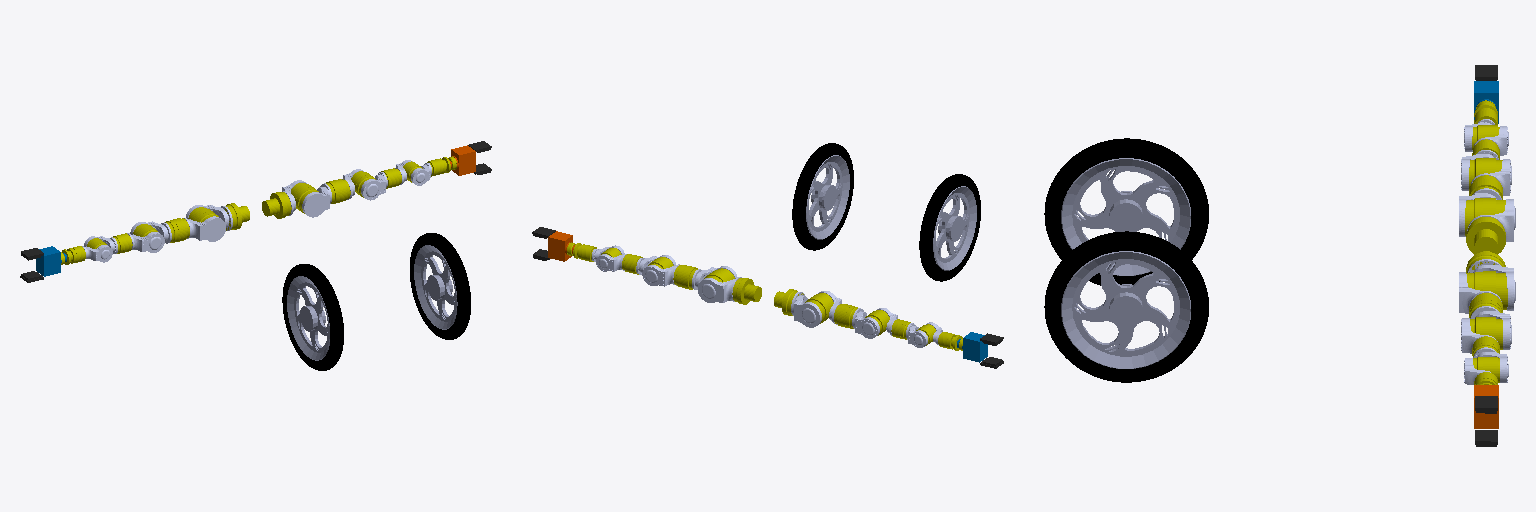
robot.urdf — Krang:
<?xml version="1.0" ?>
<!-- @file Krang.urdf -->
<!-- @author [author] -->
<!-- @date May 10, 2013 -->
<!-- @brief This file contains the .urdf definition for Krang. -->
<!-- NOTE: The center of mass locations are taken from the MassTable by summing up the -->
<!-- individual part values for the sections (which correspond to nodes here). -->
<!-- TODO: Set the center of mass locations -->
<!-- TODO: Set the correct masses. Note that the dae models have the brackets divided in two and -->
<!-- connected to the middle motor for which we do not have measurements. -->
<!-- NOTE: The bounding box values are taken by finding the min and max values of the dae files. -->

<robot name="Krang">

	<!-- Links -->

	<link name = "LWheel">
    <inertial>
      <mass value="4.66"/>
      <inertia ixx="0.102019" ixy="2.45462e-05" ixz="0.00713022" iyy="0.0832724" iyz="-0.00131733" izz="0.086493"/>
      <origin xyz="0 0 0"/>
    </inertial>
		<visual> <geometry> <mesh filename="../scenes/Base/newwheel_super_res.dae" /> </geometry> </visual>
		<collision> <geometry> <mesh filename="../scenes/Base/newwheel_super_res.dae" /> </geometry> </collision>
	<soft_shape>
            <total_mass>4.66</total_mass>
            <geometry>
                <mesh filename="../scenes/Base/newwheel_super_res.dae" />
            </geometry>
			<kv>500.0</kv>
			<ke>0.0</ke>
			<damp>5.0</damp>
     </soft_shape>
	</link>

	<link name = "RWheel">
    <inertial>
      <mass value="4.66"/>
      <inertia ixx="0.102019" ixy="2.45462e-05" ixz="0.00713022" iyy="0.0832724" iyz="-0.00131733" izz="0.086493"/>
      <origin xyz="0 0 0"/>
    </inertial>
		<visual> <geometry> <mesh filename="../scenes/Base/newwheel_super_res.dae" /> </geometry> </visual>
		<collision> <geometry> <mesh filename="../scenes/Base/newwheel_super_res.dae" /> </geometry> </collision>
	<soft_shape>
            <total_mass>4.66</total_mass>
            <geometry>
                <mesh filename="../scenes/Base/newwheel_super_res.dae" />
            </geometry>
			<kv>500.0</kv>
			<ke>0.0</ke>
			<damp>5.0</damp>
    </soft_shape>
	</link>

<!-- Finalized Inertial Parameters for Krang Base, Spine and Bracket -->

	<link name = "Base">
    <inertial>
      <mass value="75.767"/>
      <inertia ixx="2.9427" ixy="0.0001" ixz="0.0037" iyy="2.4034" iyz="-0.0113" izz="1.2335"/>
      <origin xyz="-0.000628 0.001940 0.076721"/>
      <!-- <origin xyz="-0.1 0.1 0.1"/> -->
    </inertial>
		<visual> <geometry> <mesh filename="../scenes/base.dae" /> </geometry> </visual>
		<collision> <origin xyz="0.00225 0.2097395 0.006300"/> <geometry> <box size="0.7165 0.71048 0.32860"/> </geometry> </collision>
	</link>

	<link name = "Spine">
    <inertial>
      <mass value="14.006"/>
      <inertia ixx="0.5601" ixy="0.0003" ixz="0.1548" iyy="0.53" iyz="-0.006" izz="0.2328"/>
      <origin xyz="-0.051222 0.000345 0.080526"/>
      <!-- <origin xyz="-0.1 0.1 0.1"/> -->
    </inertial>
		<visual> <geometry> <mesh filename="../scenes/spine.dae" /> </geometry> </visual>
		<collision> <origin xyz="-0.026 0.230150 0.053887"/> <geometry> <box size="0.2340 0.59430 0.24097"/> </geometry> </collision>
	</link>

	<link name = "Bracket">
    <inertial>
      <mass value="6.533"/>
      <inertia ixx="0.1003" ixy="0" ixz="0" iyy="0.0214" iyz="0" izz="0.0987"/>
      <origin xyz="0.0 0.076445 -0.005972"/>
      <!-- <origin xyz="-0.1 0.1 0.1"/> -->
    </inertial>
		<visual> <geometry> <mesh filename="../scenes/bracket.dae" /> </geometry> </visual>
		<collision> <origin xyz="0.0012875 0.0582 -0.0280530"/> <geometry> <box size="0.2815 0.23 0.22611"/> </geometry> </collision>
	</link>

	<link name = "Kinect">
    <inertial>
      <mass value="0.705"/>
      <inertia ixx="0.102019" ixy="2.45462e-05" ixz="0.00713022" iyy="0.0832724" iyz="-0.00131733" izz="0.086493"/>
      <origin xyz="0.0 -0.04 -0.028"/>
    </inertial>
		<visual> <geometry> <mesh filename="../scenes/Kinect/Kinect.dae" /> </geometry> </visual>
		<collision> <origin xyz="0.0 -0.0251 -0.0185"/> <geometry> <box size="0.28 0.07 0.063"/> </geometry> </collision>
	</link>

	<link name = "L1">
	    <inertial>
	      <mass value="7.35"/>
	      <inertia ixx="0.0381" ixy="0.0104" ixz="0" iyy="0.0187" iyz="0" izz="0.0430"/>
	      <origin xyz="0.0217 -0.0691 0"/>
	    </inertial>
	<visual>
		<geometry>
			<mesh filename="../scenes/Schunk/L1.dae" />
		</geometry>
	</visual>
	<collision>
		<origin xyz="0.015 -0.080866 0.0"/>
		<geometry>
			<box size="0.16 0.29367 0.13188"/>
		</geometry>
	</collision>
	</link>

	<link name = "L2">
    <inertial>
      <mass value="6.1405"/>
      <!-- <inertia ixx="0.0504" ixy="0.0006" ixz="0" iyy="0.0178" iyz="0" izz="0.0579"/> -->
	  <inertia ixx="0.0320" ixy="0.0097" ixz="0" iyy="0.0134" iyz="0" izz="0.0350"/>
      <origin xyz="0.0269 -0.0548 0"/>
    </inertial>
		<visual> <geometry> <mesh filename="../scenes/Schunk/L2.dae" /> </geometry> </visual>
		<collision> <origin xyz="0.017042 -0.058309 0.0"/> <geometry> <box size="0.14591 0.24658 0.13"/> </geometry> </collision>
	</link>

	<link name = "L3">
    <inertial>
      <mass value="4.531"/>
      <!-- <inertia ixx="0.0354" ixy="-0.0003" ixz="0" iyy="0.01" iyz="0" izz="0.0394"/> -->
      <inertia ixx="0.0180" ixy="0.005" ixz="0" iyy="0.0084" iyz="0" izz="0.0204"/>
	  <origin xyz="0.0188 -0.00619 0"/>
    </inertial>
		<visual> <geometry> <mesh filename="../scenes/Schunk/L3.dae" /> </geometry> </visual>
		<collision> <origin xyz="0.014000 -0.075113 0.0"/> <geometry> <box size="0.13800 0.26217 0.11189"/> </geometry> </collision>
	</link>

	<link name = "L4">
    <inertial>
      <mass value="3.2245"/>
      <!-- <inertia ixx="0.0209" ixy="0.0003" ixz="0" iyy="0.0067" iyz="0" izz="0.0239"/> -->
    <inertia ixx="0.0133" ixy="0.004" ixz="0" iyy="0.0049" iyz="0" izz="0.0145"/>
	<origin xyz="0.0238 -0.0484 0"/>
    </inertial>
		<visual> <geometry> <mesh filename="../scenes/Schunk/L4.dae" /> </geometry> </visual>
		<collision> <origin xyz="0.018200 -0.052050 0.0"/> <geometry> <box size="0.12960 0.2141 0.11"/> </geometry> </collision>
	</link>

	<link name = "L5">
    <inertial>
      <mass value="2.318"/>
      <!-- <inertia ixx="0.012" ixy="-0.0002" ixz="0" iyy="0.0035" iyz="0" izz="0.0135"/> -->
      <inertia ixx="0.0063" ixy="0.0017" ixz="0" iyy="0.0029" iyz="0" izz="0.0072"/>
	  <origin xyz="0.0166 -0.0494 0"/>
    </inertial>
		<visual>
			<geometry>
				<mesh filename="../scenes/Schunk/L5.dae" />
			</geometry>
		</visual>
		<collision> <origin xyz="0.0145115 -0.0571105 0.0000425" rpy="-1.57 0 0"/> <geometry> <box size="0.117977 0.204179 0.089915"/> </geometry> </collision>
	</link>

	<link name = "L6">
    <inertial>
      <mass value="2.318"/>
      <!-- <inertia ixx="0.0104" ixy="0" ixz="0" iyy="0.0041" iyz="0" izz="0.0125"/> -->
      <inertia ixx="0.0071" ixy="0.0020" ixz="0" iyy="0.0029" iyz="0" izz="0.008"/>
	  <origin xyz="0.0232 -0.0377 0"/>
    </inertial>
		<visual> <geometry> <mesh filename="../scenes/Schunk/L6.dae" /> </geometry> </visual>
		<collision> <origin xyz="0.0175015 -0.0481615 0.0"/> <geometry> <box size="0.111977 0.185277 0.089"/> </geometry> </collision>
	</link>

	<link name = "lGripper">
	    <inertial>
		<mass value="2.3838"/>
		<inertia ixx="0.0104" ixy="0" ixz="0" iyy="0.0108" iyz="0" izz="0.0027"/>
		<!-- <inertia ixx="0.0126" ixy="0" ixz="0" iyy="0.013" iyz="0" izz="0.0027"/> -->
				<!-- An addition of 4.05 cms from the end of Schunk gripper to space between two halves of ft -->
	      <origin xyz="0 0 0.1055"/>
	    </inertial>
		<visual>
			<geometry>
				<mesh filename="../scenes/Schunk/L7.dae" />
			</geometry>
			<!-- <origin rpy="0 0 1.0"/>  -->
		</visual>
		<collision>
			<origin xyz="0.0 -0.0 -0.02615" rpy="0.0 0.0 1.5708"/>
			<geometry>
				<box size="0.08 0.112 0.2025"/>
			</geometry>
		</collision>
	</link>

	<link name = "lgPlate1">
    <inertial>
      <inertia ixx="0.102019" ixy="2.45462e-05" ixz="0.00713022" iyy="0.0832724" iyz="-0.00131733" izz="0.086493"/>
			<mass value="0.0001"/> </inertial>
		<visual> <geometry> <mesh filename="../scenes/Schunk/gripperPlate.dae" /> </geometry> </visual>
		<collision> <geometry> <mesh filename="../scenes/Schunk/gripperPlate.dae" /> </geometry> </collision>
	</link>

	<link name = "lgPlate2">
    <inertial>
      <inertia ixx="0.102019" ixy="2.45462e-05" ixz="0.00713022" iyy="0.0832724" iyz="-0.00131733" izz="0.086493"/>
			<mass value="0.0001"/> </inertial>
		<visual> <geometry> <mesh filename="../scenes/Schunk/gripperPlate.dae" /> </geometry> </visual>
		<collision> <geometry> <mesh filename="../scenes/Schunk/gripperPlate.dae" /> </geometry> </collision>
	</link>

	<link name = "R1">
    <inertial>
	<mass value="7.35"/>
	<inertia ixx="0.0381" ixy="0.0104" ixz="0" iyy="0.0187" iyz="0" izz="0.0430"/>
	<origin xyz="0.0217 -0.0691 0"/>
    </inertial>
		<visual> <geometry> <mesh filename="../scenes/Schunk/L1.dae" /> </geometry> </visual>
		<collision> <origin xyz="0.015 -0.080866 0.0"/> <geometry> <box size="0.16 0.29367 0.13188"/> </geometry> </collision>
	</link>

	<link name = "R2">
    <inertial>
      	<mass value="6.1405"/>
      	<inertia ixx="0.0320" ixy="0.0097" ixz="0" iyy="0.0134" iyz="0" izz="0.0350"/>
	<origin xyz="0.0269 -0.0548 0"/>
    </inertial>
		<visual> <geometry> <mesh filename="../scenes/Schunk/L2.dae" /> </geometry> </visual>
		<collision> <origin xyz="0.017042 -0.058309 0.0"/> <geometry> <box size="0.14591 0.24658 0.13"/> </geometry> </collision>
	</link>

	<link name = "R3">
    <inertial>
      	<mass value="4.531"/>
      	<inertia ixx="0.0180" ixy="0.005" ixz="0" iyy="0.0084" iyz="0" izz="0.0204"/>
	<origin xyz="0.0188 -0.00619 0"/>
    </inertial>
		<visual> <geometry> <mesh filename="../scenes/Schunk/L3.dae" /> </geometry> </visual>
		<collision> <origin xyz="0.014000 -0.075113 0.0"/> <geometry> <box size="0.13800 0.26217 0.11189"/> </geometry> </collision>
	</link>

	<link name = "R4">
    <inertial>
      	<mass value="3.2245"/>
      	<inertia ixx="0.0133" ixy="0.004" ixz="0" iyy="0.0049" iyz="0" izz="0.0145"/>
	<origin xyz="0.0238 -0.0484 0"/>
    </inertial>
		<visual> <geometry> <mesh filename="../scenes/Schunk/L4.dae" /> </geometry> </visual>
		<collision> <origin xyz="0.018200 -0.052050 0.0"/> <geometry> <box size="0.12960 0.2141 0.11"/> </geometry> </collision>
	</link>

	<link name = "R5">
    <inertial>
      	<mass value="2.318"/>
      	<inertia ixx="0.0063" ixy="0.0017" ixz="0" iyy="0.0029" iyz="0" izz="0.0072"/>
	<origin xyz="0.0166 -0.0494 0"/>
    </inertial>
		<visual> <geometry> <mesh filename="../scenes/Schunk/L5.dae" /> </geometry> </visual>
		<collision> <origin xyz="0.0145115 -0.0571105 0.0000425"/> <geometry> <box size="0.117977 0.204179 0.089915"/> </geometry> </collision>
	</link>

	<link name = "R6">
    <inertial>
      	<mass value="2.318"/>
      	<inertia ixx="0.0071" ixy="0.0020" ixz="0" iyy="0.0029" iyz="0" izz="0.008"/>
	<origin xyz="0.0232 -0.0377 0"/>
    </inertial>
		<visual> <geometry> <mesh filename="../scenes/Schunk/L6.dae" /> </geometry> </visual>
		<collision> <origin xyz="0.0175015 -0.0481615 0.0"/> <geometry> <box size="0.111977 0.185277 0.089"/> </geometry> </collision>
	</link>

	<link name = "rGripper">
    <inertial>
     	<mass value="2.3838"/>
		<inertia ixx="0.0104" ixy="0" ixz="0" iyy="0.0108" iyz="0" izz="0.0027"/>
			<!-- An addition of 4.05 cms from the end of Schunk gripper to space between two halves of ft -->
      <origin xyz="0 0 0.1055"/>
    </inertial>
		<visual> <geometry> <mesh filename="../scenes/Schunk/L7.dae" /> </geometry> </visual>
		<collision> <origin xyz="0.0 -0.0 0.02615" rpy="0.0 0.0 1.5708"/> <geometry> <box size="0.08 0.112 0.2025"/> </geometry> </collision>
	</link>

	<link name = "rgPlate1">
    <inertial>
      <inertia ixx="0.102019" ixy="2.45462e-05" ixz="0.00713022" iyy="0.0832724" iyz="-0.00131733" izz="0.086493"/>
			<mass value="0.0001"/> </inertial>
		<visual> <geometry> <mesh filename="../scenes/Schunk/gripperPlate.dae" /> </geometry> </visual>
		<collision> <geometry> <mesh filename="../scenes/Schunk/gripperPlate.dae" /> </geometry> </collision>
	</link>

	<link name = "rgPlate2">
    <inertial>
      <inertia ixx="0.102019" ixy="2.45462e-05" ixz="0.00713022" iyy="0.0832724" iyz="-0.00131733" izz="0.086493"/>
			<mass value="0.0001"/> </inertial>
		<visual> <geometry> <mesh filename="../scenes/Schunk/gripperPlate.dae" /> </geometry> </visual>
		<collision> <geometry> <mesh filename="../scenes/Schunk/gripperPlate.dae" /> </geometry> </collision>
	</link>


	<!-- ======================================================================================================== -->
	<!-- ============================================ Joints ==================================================== -->
	<!-- ======================================================================================================== -->

	<joint name="JLWheel" type="revolute"> <parent link="Base" /> <child link="LWheel" />
		<origin xyz = "-0.354 0.0 0" rpy="0 0 0" />
		<axis xyz="-1 0 0" /> <limit effort="1000" lower="-3.1416" upper="3.1416" velocity="0.1" />
	</joint>

	<joint name="JRWheel" type="revolute"> <parent link="Base" /> <child link="RWheel" />
		<origin xyz = "0.361 0.0 0" rpy="0 0 0" />
		<axis xyz="-1 0 0" /> <limit effort="1000" lower="-3.1416" upper="3.1416" velocity="0.1" />
	</joint>

	<joint name="JWaist" type="revolute"> <parent link="Base" /> <child link="Spine" />
		<origin xyz = "0.026 0.499 -0.091" rpy="0 0 0" />
		<axis xyz="-1 0 0" /> <limit effort="1000" lower="0" upper="2.7" velocity="0.1" />
	</joint>

	<joint name="JTorso" type="revolute"> <parent link="Spine" /> <child link="Bracket" />
		<origin xyz = "-0.0285 0.584 0.1088" rpy="0 3.1416 0" />
		<axis xyz="0 -1 0" /> <limit effort="1000" lower="-0.8" upper="0.8" velocity="0.1" />
	</joint>

	<joint name="JKinect" type="revolute"> <parent link="Bracket" /> <child link="Kinect" />
		<origin xyz = "-0.001 0.1805 -0.1120" rpy="3.1416 0 0" />
		<axis xyz="1 0 0" /> <limit effort="1000" lower="-3.1416" upper="3.1416" velocity="0.1" />
	</joint>

	<!-- =================== Left Arm =================== -->
	<!-- ================================================ -->

	<joint name="LJ1" type="revolute"> <parent link="Bracket" /> <child link="L1" />
		<origin xyz = "0.2823 0.0845 0" rpy="0 3.1416 -1.5708" />
		<axis xyz="0 -1 0" /> <limit effort="1000" lower="-3.1416" upper="3.1416" velocity="0.1" />
	</joint>

	<joint name="LJ2" type="revolute"> <parent link="L1" /> <child link="L2" />
		<origin xyz="0 0.0 0" rpy="3.14 3.14 0" />
		<axis xyz="-1 0 0" /> <limit effort="1000" lower="-2.094" upper="2.094" velocity="0.1" />
	</joint>

	<joint name="LJ3" type="revolute"> <parent link="L2" /> <child link="L3" />
		<origin xyz="0 -0.328 0" rpy="-3.1416 -3.1416 0" />
		<axis xyz="0 -1 0" /> <limit effort="1000" lower="-4.7124" upper="4.7124" velocity="0.1" />
	</joint>

	<joint name="LJ4" type="revolute"> <parent link="L3" /> <child link="L4" />
		<origin xyz="0 0 0" rpy="3.1416 3.1416 0" />
		<axis xyz="-1 0 0" /> <limit effort="1000" lower="-2.094" upper="2.094" velocity="0.1" />
	</joint>

	<joint name="LJ5" type="revolute"> <parent link="L4" /> <child link="L5" />
		<origin xyz="0 -0.2765 0" rpy="3.1416 3.1416 0" />
		<axis xyz="0 -1 0" /> <limit effort="1000" lower="-4.7124" upper="4.7124" velocity="0.1" />
	</joint>

	<joint name="LJ6" type="revolute"> <parent link="L5" /> <child link="L6" />
		<origin xyz="0 0 0" rpy="0 0 3.1416" />
		<axis xyz="-1 0 0" /> <limit effort="1000" lower="-2.094" upper="2.094" velocity="0.1" />
	</joint>

	<!-- For some reason, I had to negate the axis to make sure the motor turns like the others -->
	<joint name="LJFT" type="revolute"> <parent link="L6" /> <child link="lGripper" />
		<origin xyz="0 -0.200 0" rpy="1.5708 4.7124 0" />
		<axis xyz="0 0 -1" /> <limit effort="1000" lower="-4.7124" upper="4.7124" velocity="0.1" />
	</joint>

	<joint name="LMotorPlate1" type="fixed"> <parent link="lGripper" /> <child link="lgPlate1" />
		<!--origin xyz="-0.045 0.0 0.127" rpy="3.1416 0 0" /-->
		<origin xyz="-0.07 0.0 0.127" rpy="3.1416 0 0" />
		<axis xyz="1 0 0" /> <limit effort="1000" lower="0.0" upper="0.022" velocity="0.1" />
	</joint>

	<joint name="LMotorPlate2" type="fixed"> <parent link="lGripper" /> <child link="lgPlate2" />
		<!--origin xyz="0.045 0.000 0.127" rpy="3.1416 0 3.1416" /-->
		<origin xyz="0.07 0.000 0.127" rpy="3.1416 0 3.1416" />
		<axis xyz="1 0 0" /> <limit effort="1000" lower="0.0" upper="0.022" velocity="0.1" />
	</joint>

	<!-- =================== Right Arm ================== -->
	<!-- ================================================ -->

	<joint name="RJ1" type="revolute"> <parent link="Bracket" /> <child link="R1" />
		<origin xyz = "-0.2823 0.0845 0" rpy="0 0 1.5708" />
		<axis xyz="0 -1 0" /> <limit effort="1000" lower="-4.7124" upper="4.7124" velocity="0.1" />
	</joint>

	<joint name="RJ2" type="revolute"> <parent link="R1" /> <child link="R2" />
		<origin xyz="0 0.0 0" rpy="3.14 3.14 0" />
		<axis xyz="-1 0 0" /> <limit effort="1000" lower="-2.094" upper="2.094" velocity="0.1" />
	</joint>

	<joint name="RJ3" type="revolute"> <parent link="R2" /> <child link="R3" />
		<origin xyz="0 -0.328 0" rpy="-3.1416 -3.1416 0" />
		<axis xyz="0 -1 0" /> <limit effort="1000" lower="-4.7124" upper="4.7124" velocity="0.1" />
	</joint>

	<joint name="RJ4" type="revolute"> <parent link="R3" /> <child link="R4" />
		<origin xyz="0 0 0" rpy="-3.1416 3.1416 0" />
		<axis xyz="-1 0 0" /> <limit effort="1000" lower="-2.094" upper="2.094" velocity="0.1" />
	</joint>

	<joint name="RJ5" type="revolute"> <parent link="R4" /> <child link="R5" />
		<origin xyz="0 -0.2765 0" rpy="3.1416 3.1416 0" />
		<axis xyz="0 -1 0" /> <limit effort="1000" lower="-4.7124" upper="4.7124" velocity="0.1" />
	</joint>

	<joint name="RJ6" type="revolute"> <parent link="R5" /> <child link="R6" />
		<origin xyz="0 0 0" rpy="0 0 3.1416" />
		<axis xyz="-1 0 0" /> <limit effort="1000" lower="-2.094" upper="2.094" velocity="0.1" />
	</joint>

	<joint name="RJFT" type="revolute"> <parent link="R6" /> <child link="rGripper" />
		<origin xyz="0 -0.200 0" rpy="1.5708 4.7124 0" />
		<axis xyz="0 0 -1" /> <limit effort="1000" lower="-4.7124" upper="4.7124" velocity="0.1" />
	</joint>

	<joint name="RMotorPlate1" type="fixed"> <parent link="rGripper" /> <child link="rgPlate1" />
		<!--origin xyz="-0.045 0.0 0.127" rpy="3.1416 0 0" /-->
		<origin xyz="-0.06 0.0 0.127" rpy="3.1416 0 0" />
		<axis xyz="1 0 0" /> <limit effort="1000" lower="0.0" upper="0.022" velocity="0.1" />
	</joint>

	<joint name="RMotorPlate2" type="fixed"> <parent link="rGripper" /> <child link="rgPlate2" />
		<!--origin xyz="0.045 0.000 0.127" rpy="3.1416 0 3.1416" /-->
		<origin xyz="0.06 0.0 0.127" rpy="3.1416 0 0" />
		<axis xyz="1 0 0" /> <limit effort="1000" lower="0.0" upper="0.022" velocity="0.1" />
	</joint>

</robot>

--- Facts derived from the render (not from the file) ---
Views: 3 orthographic renders of the robot side by side, from view 1: azimuth 30°, elevation 25°; view 2: azimuth 150°, elevation 25°; view 3: azimuth 270°, elevation 25°.
Model Krang with 24 links and 23 joints (19 revolute, 4 fixed), rooted at Base, posed all joints at 0.
Visible links, largest first — view 1: LWheel, RWheel, R2, L2, R1, L1, lGripper, R4, rGripper, L4, L3, R6 (+1 smaller); view 2: RWheel, LWheel, R1, L1, L3, R3, lGripper, rGripper, R2, L5, R5, L2; view 3: RWheel, LWheel, L1, R1, R3, L2, R2, L4, R5, L3, R4, rGripper (+4 smaller).
Boxes of the visible links, x1,y1,x2,y2 form: LWheel: (282, 264, 343, 370); RWheel: (410, 233, 470, 339); R2: (296, 180, 343, 217); L2: (173, 212, 225, 241); R1: (262, 180, 314, 218); L1: (186, 203, 249, 230); lGripper: (36, 246, 76, 276); R4: (356, 169, 396, 200); rGripper: (438, 145, 475, 175); L4: (118, 228, 164, 252); L3: (130, 220, 178, 243); R6: (407, 159, 442, 185); RWheel: (792, 143, 853, 250); LWheel: (919, 174, 980, 281); R1: (698, 271, 761, 304); L1: (774, 289, 830, 327); L3: (845, 306, 887, 338); R3: (642, 259, 686, 286); lGripper: (947, 332, 987, 362); rGripper: (548, 231, 584, 261); R2: (680, 266, 736, 289); L5: (900, 321, 933, 347); R5: (596, 249, 631, 271); L2: (814, 291, 851, 327); RWheel: (1044, 231, 1208, 382); LWheel: (1044, 138, 1208, 285); L1: (1466, 198, 1515, 254); R1: (1466, 251, 1515, 310); R3: (1469, 300, 1511, 349); L2: (1459, 179, 1502, 236); R2: (1459, 272, 1502, 313); L4: (1461, 142, 1499, 190); R5: (1473, 343, 1508, 382); L3: (1469, 158, 1511, 195); R4: (1461, 317, 1499, 355); rGripper: (1474, 378, 1498, 428).
Bounding box of the posed robot: 2.61 × 1.53 × 0.535 m (x, y, z).
20 mesh visuals loaded from 13 distinct referenced files (9 Collada DAE); not drawn: 1 (reference not matched to a file when rendering), 3 (file found but could not be loaded).